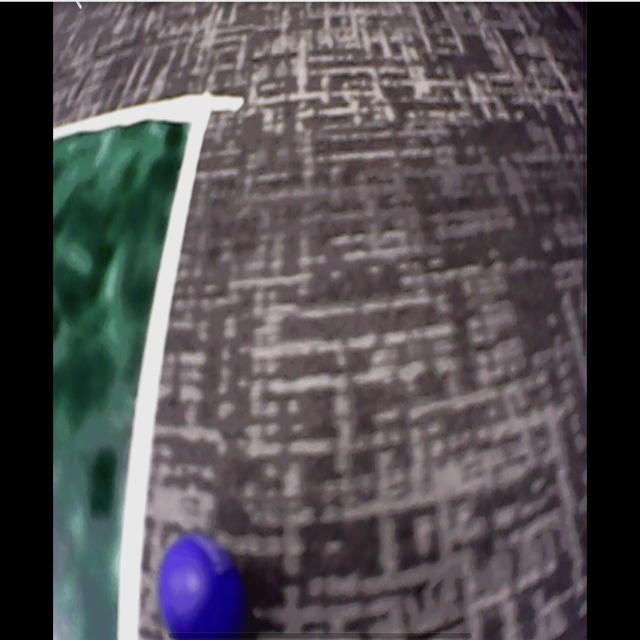ball: (160, 533, 242, 640)
